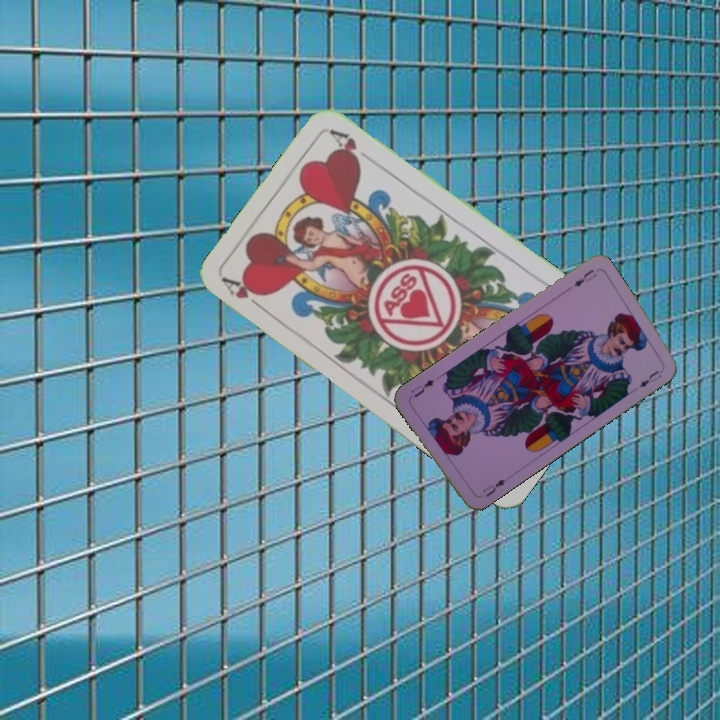EU: (478, 475, 508, 499), (570, 265, 600, 289)
HA: (219, 273, 270, 316)
